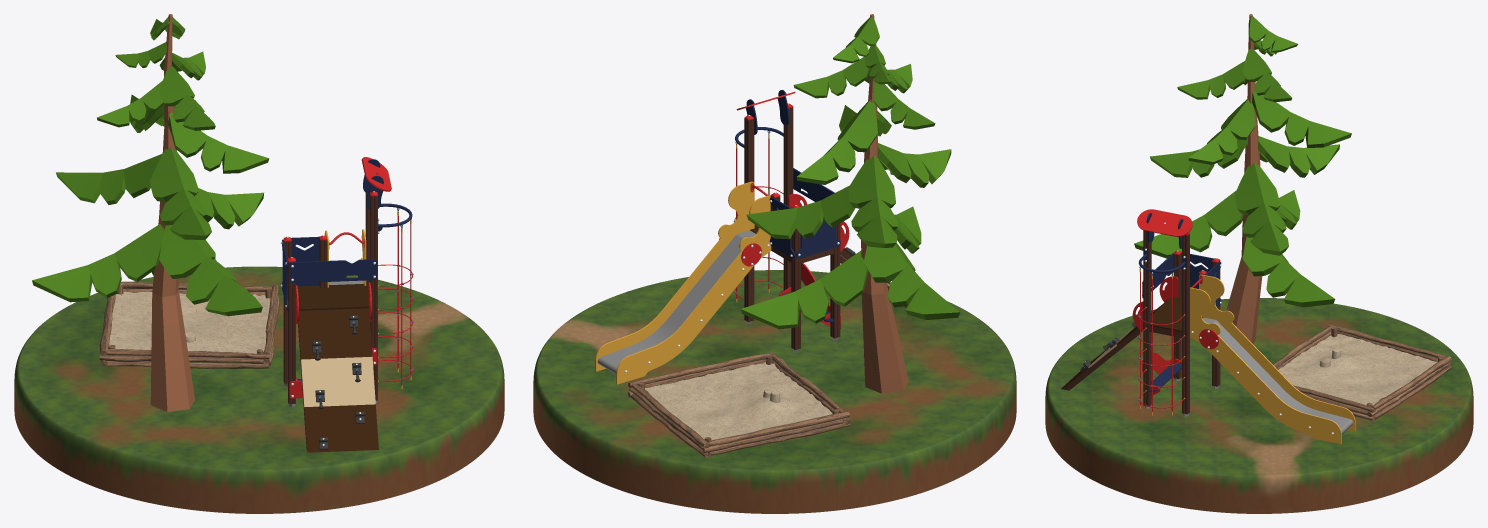
Rendered from playground.glb.
3 views of the same model, side by side, from view 1: azimuth 30°, elevation 25°; view 2: azimuth 150°, elevation 25°; view 3: azimuth 270°, elevation 25° (orthographic). The views are drawn at different scales.
Parts seen in each view (by area): view 1: Spielplatz, Spielgeraet2, Spielgeraet1, Spielgeraet3; view 2: Spielplatz, Spielgeraet2, Spielgeraet1, Spielgeraet3; view 3: Spielplatz, Spielgeraet2, Spielgeraet1, Spielgeraet3.
Boxes of the visible parts, x1,y1,x2,y2 form: Spielplatz: (14,266,504,513); Spielgeraet2: (32,14,269,411); Spielgeraet1: (280,157,413,452); Spielgeraet3: (99,281,279,368); Spielplatz: (533,270,1016,513); Spielgeraet2: (741,14,959,393); Spielgeraet1: (595,90,908,384); Spielgeraet3: (627,352,850,458); Spielplatz: (1045,298,1473,513); Spielgeraet2: (1134,14,1351,344); Spielgeraet1: (1061,209,1355,444); Spielgeraet3: (1273,324,1452,421).
Size of the model in its own units: 11.35 by 10.79 by 11.35.
17 materials, 6 textured.
